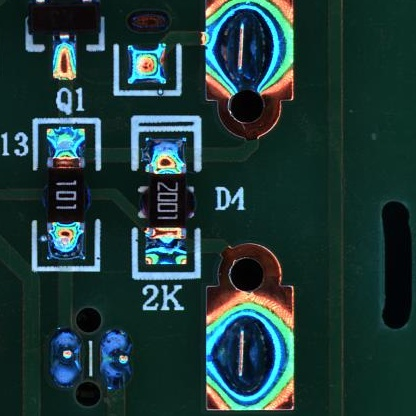spot: (100, 326, 135, 391), (49, 330, 83, 388), (129, 42, 167, 89)
